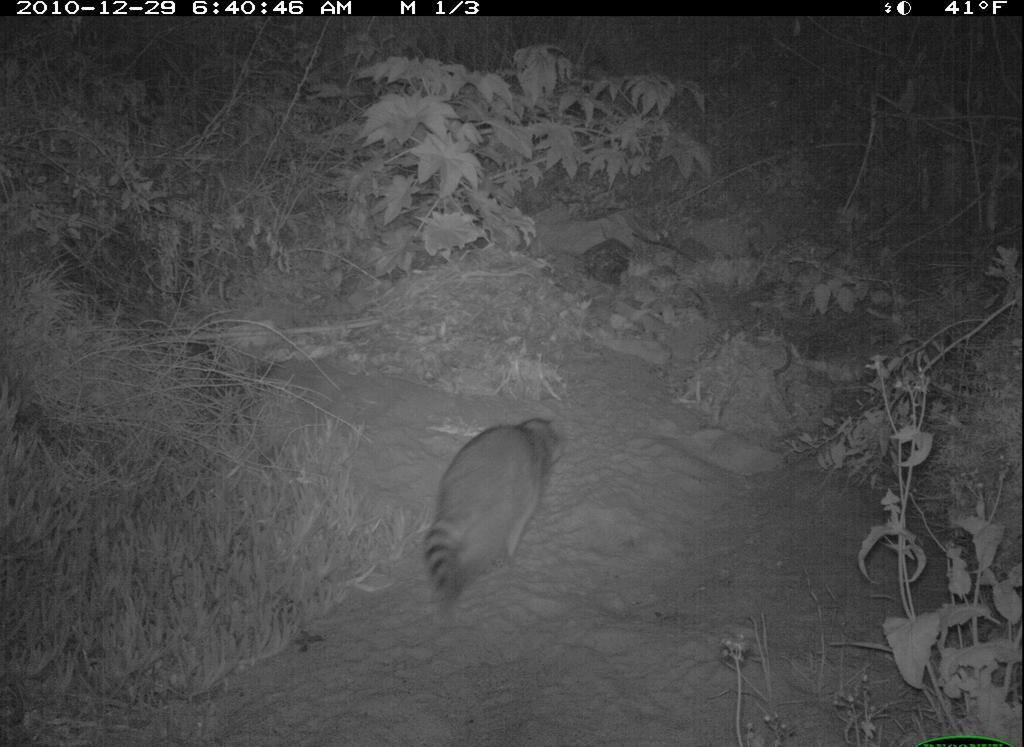raccoon: (406, 422, 582, 614)
